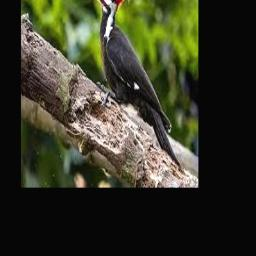Woodpecker: (80, 0, 182, 169)
